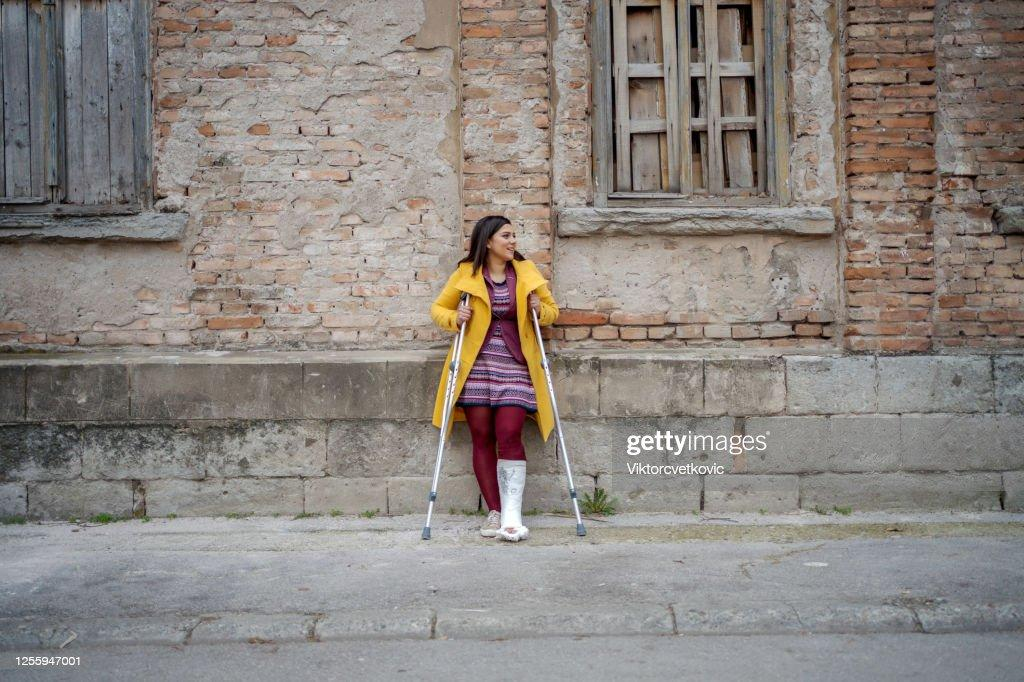crutches: (420, 216, 589, 543)
